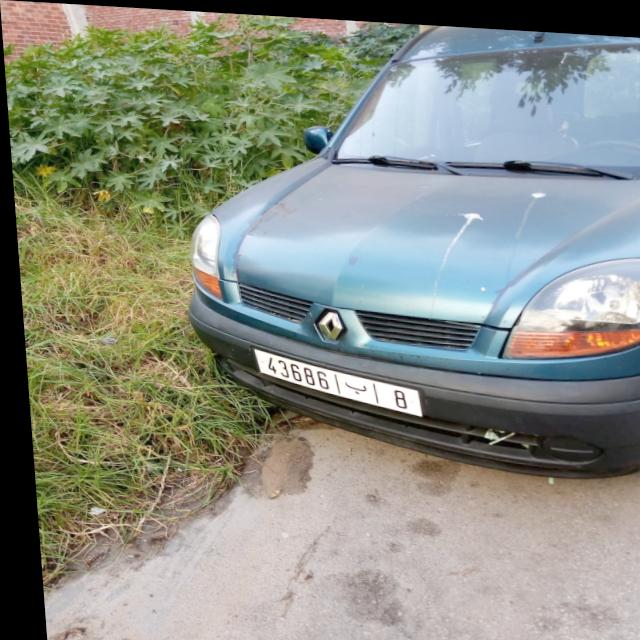License-Plate: (250, 347, 415, 411)
